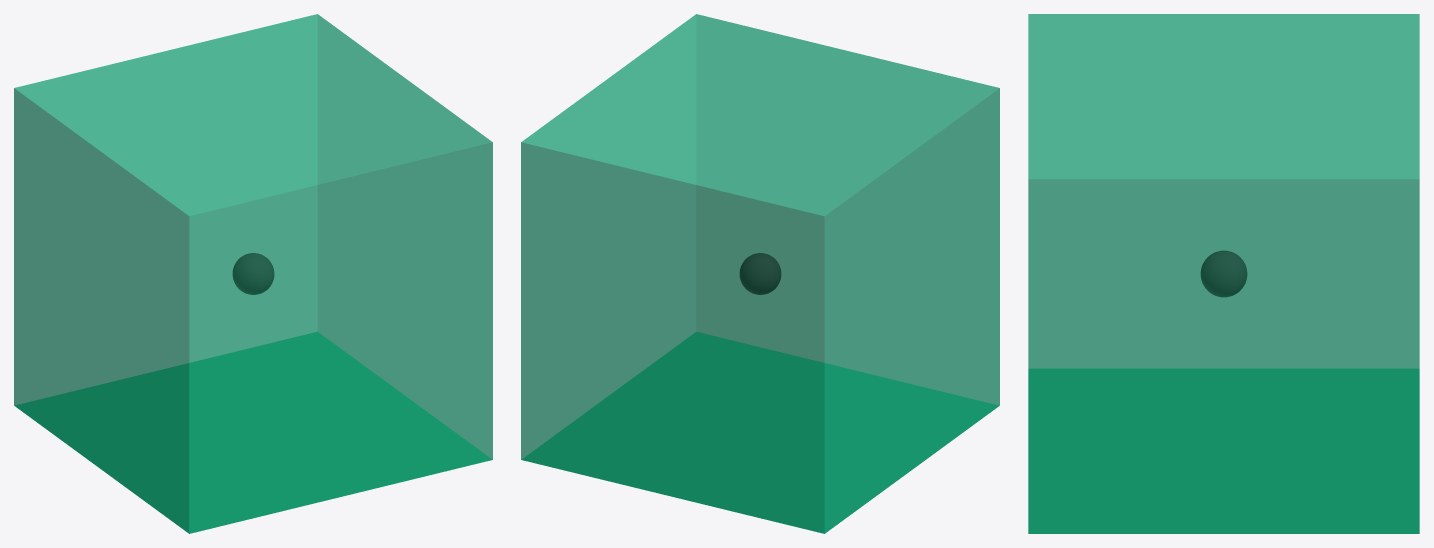
Rendered from 19_flux through 6 square sheets.glb.
The picture shows the model from 3 angles, left to right: view 1: azimuth 30°, elevation 25°; view 2: azimuth 150°, elevation 25°; view 3: azimuth 270°, elevation 25°; orthographic projection. The views are drawn at different scales.
Visible parts, largest first — view 1: Plane.005, Plane.004, Plane.003, Plane.002, Plane, Plane.001, Sphere; view 2: Plane.004, Plane.005, Plane.003, Plane.002, Plane, Plane.001, Sphere; view 3: Plane.002, Plane.003, Plane, Plane.001, Sphere.
Part boxes in pixels (x1,y1,x2,y2): Plane.005: (189, 142, 492, 533); Plane.004: (14, 14, 317, 405); Plane.003: (14, 88, 189, 533); Plane.002: (318, 15, 492, 459); Plane: (15, 331, 492, 533); Plane.001: (14, 14, 491, 216); Sphere: (232, 253, 274, 294); Plane.004: (521, 142, 824, 533); Plane.005: (696, 14, 999, 405); Plane.003: (824, 88, 999, 533); Plane.002: (521, 15, 695, 459); Plane: (521, 331, 998, 533); Plane.001: (522, 14, 999, 216); Sphere: (739, 253, 781, 294); Plane.002: (1028, 179, 1419, 533); Plane.003: (1028, 14, 1419, 368); Plane: (1028, 368, 1419, 533); Plane.001: (1028, 14, 1419, 179); Sphere: (1200, 250, 1247, 297).
Bounding box in the file's own units: 2 × 2 × 2.
